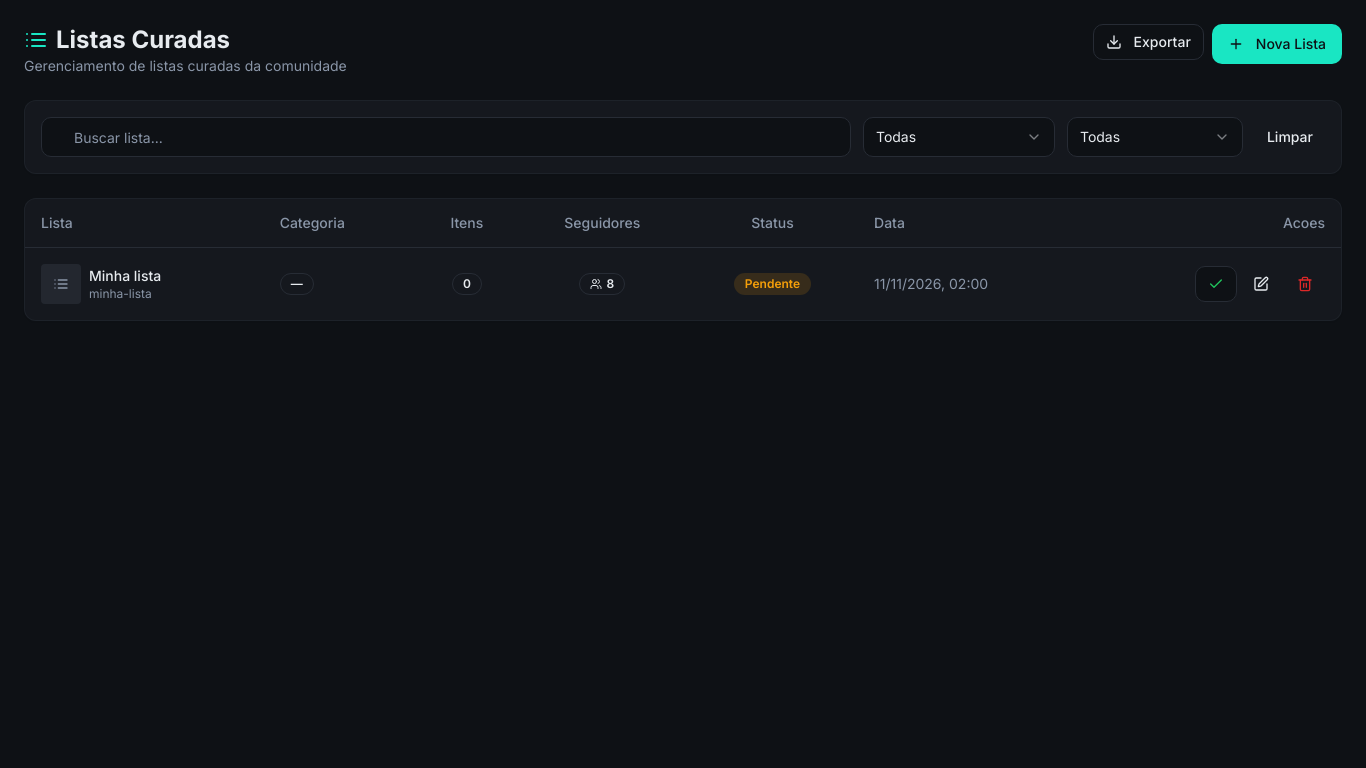
Scenario: curated list management › edits a list through the management screen and persists the updated title
Click the button named "Editar Minha lista": (1261, 284) [1241,266,1281,302]
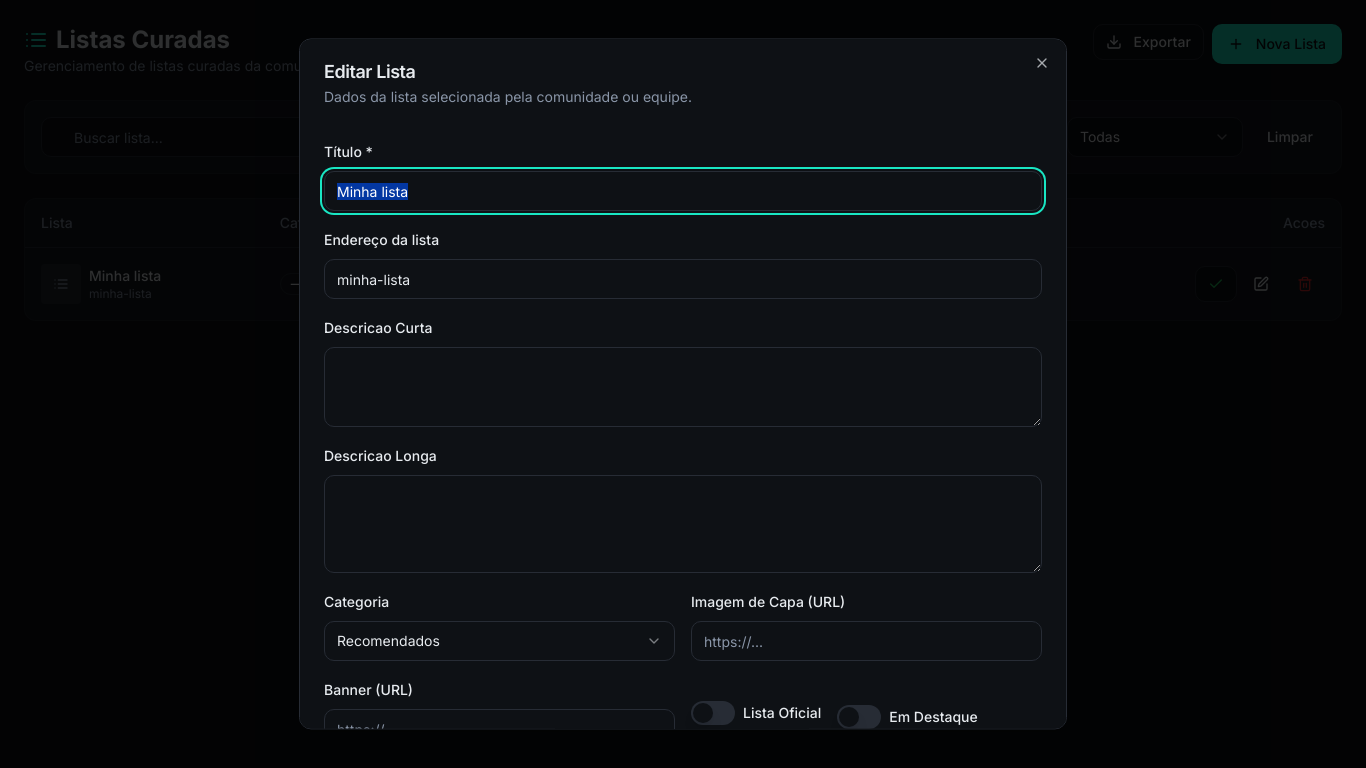
Replace the text in the field labelled "Título *" with "Lista atualizada": (683, 191) [324,171,1042,211]
(page scrolled)
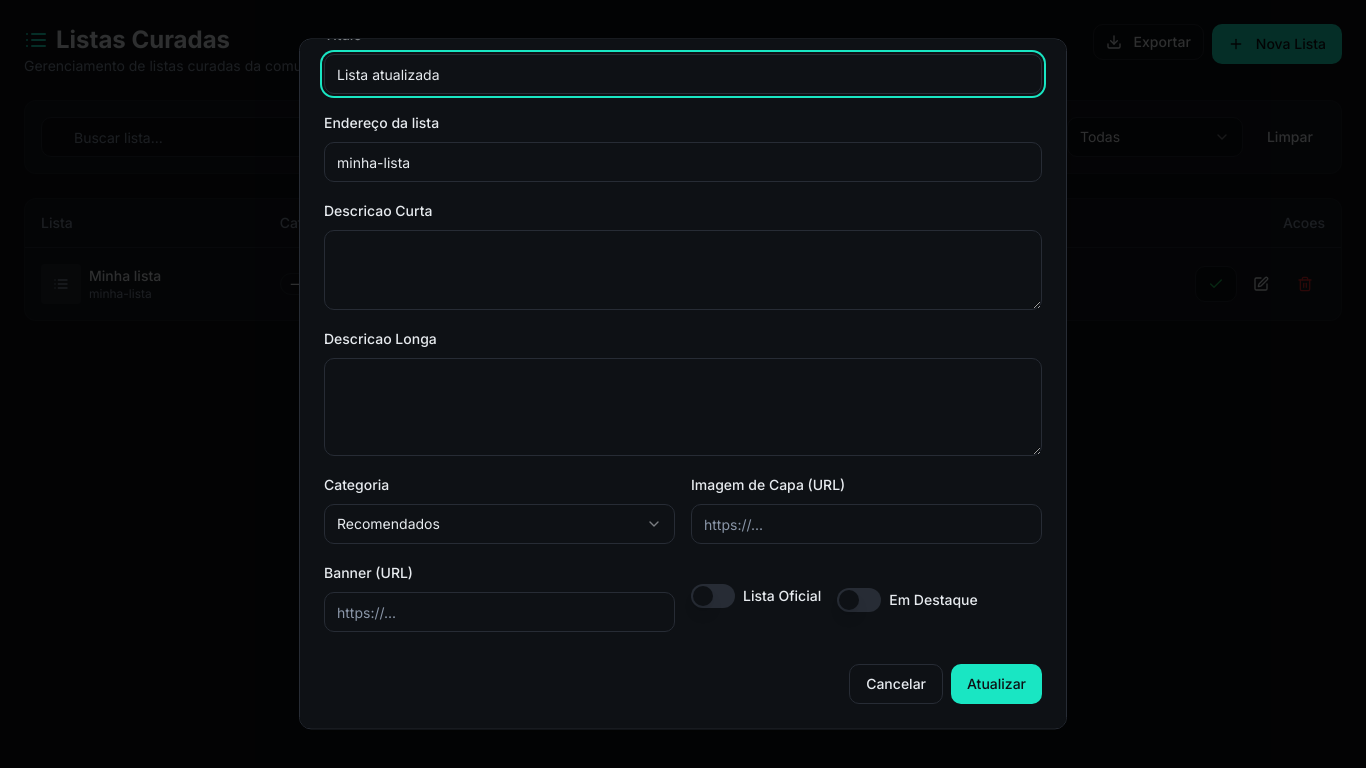
Click the button "Atualizar": (996, 684) [951,664,1042,704]
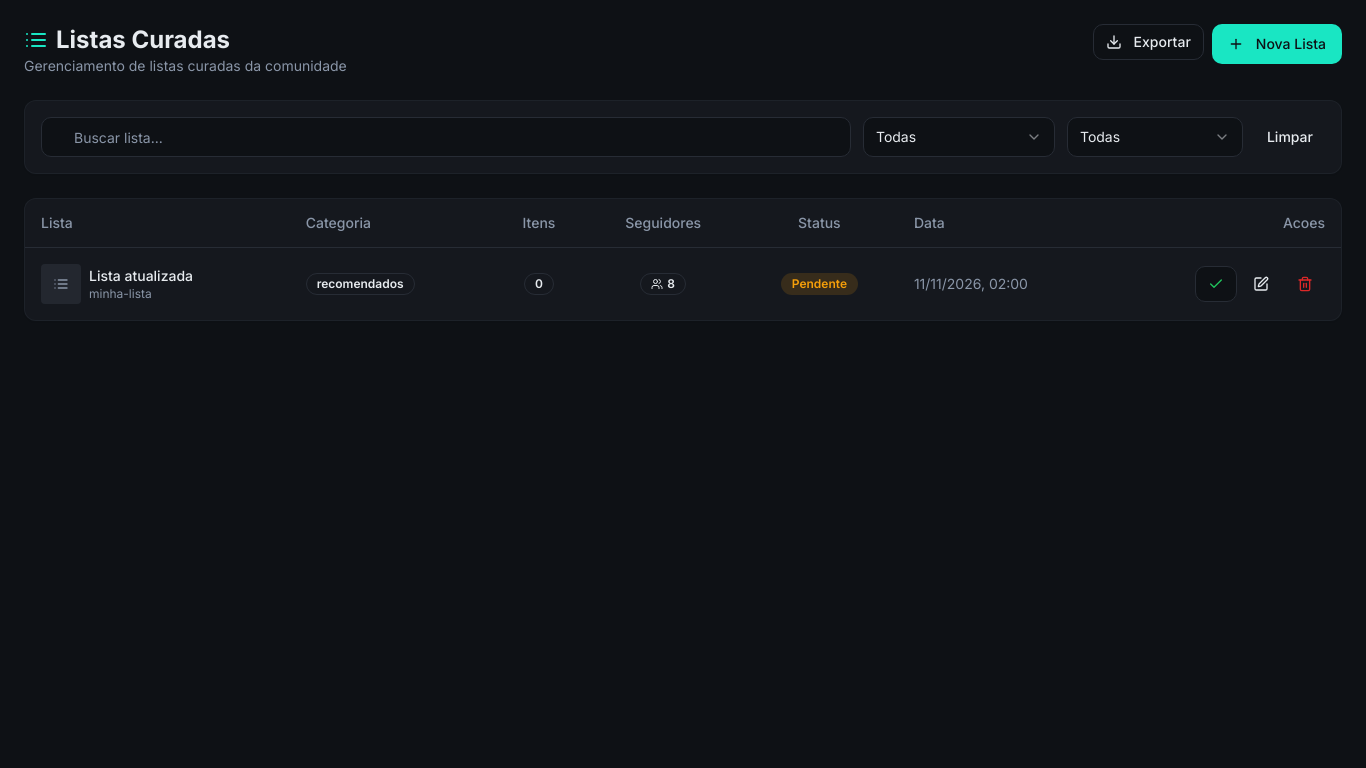
expect the text "Lista atualizada" is shown: met, box [89,266,193,286]
